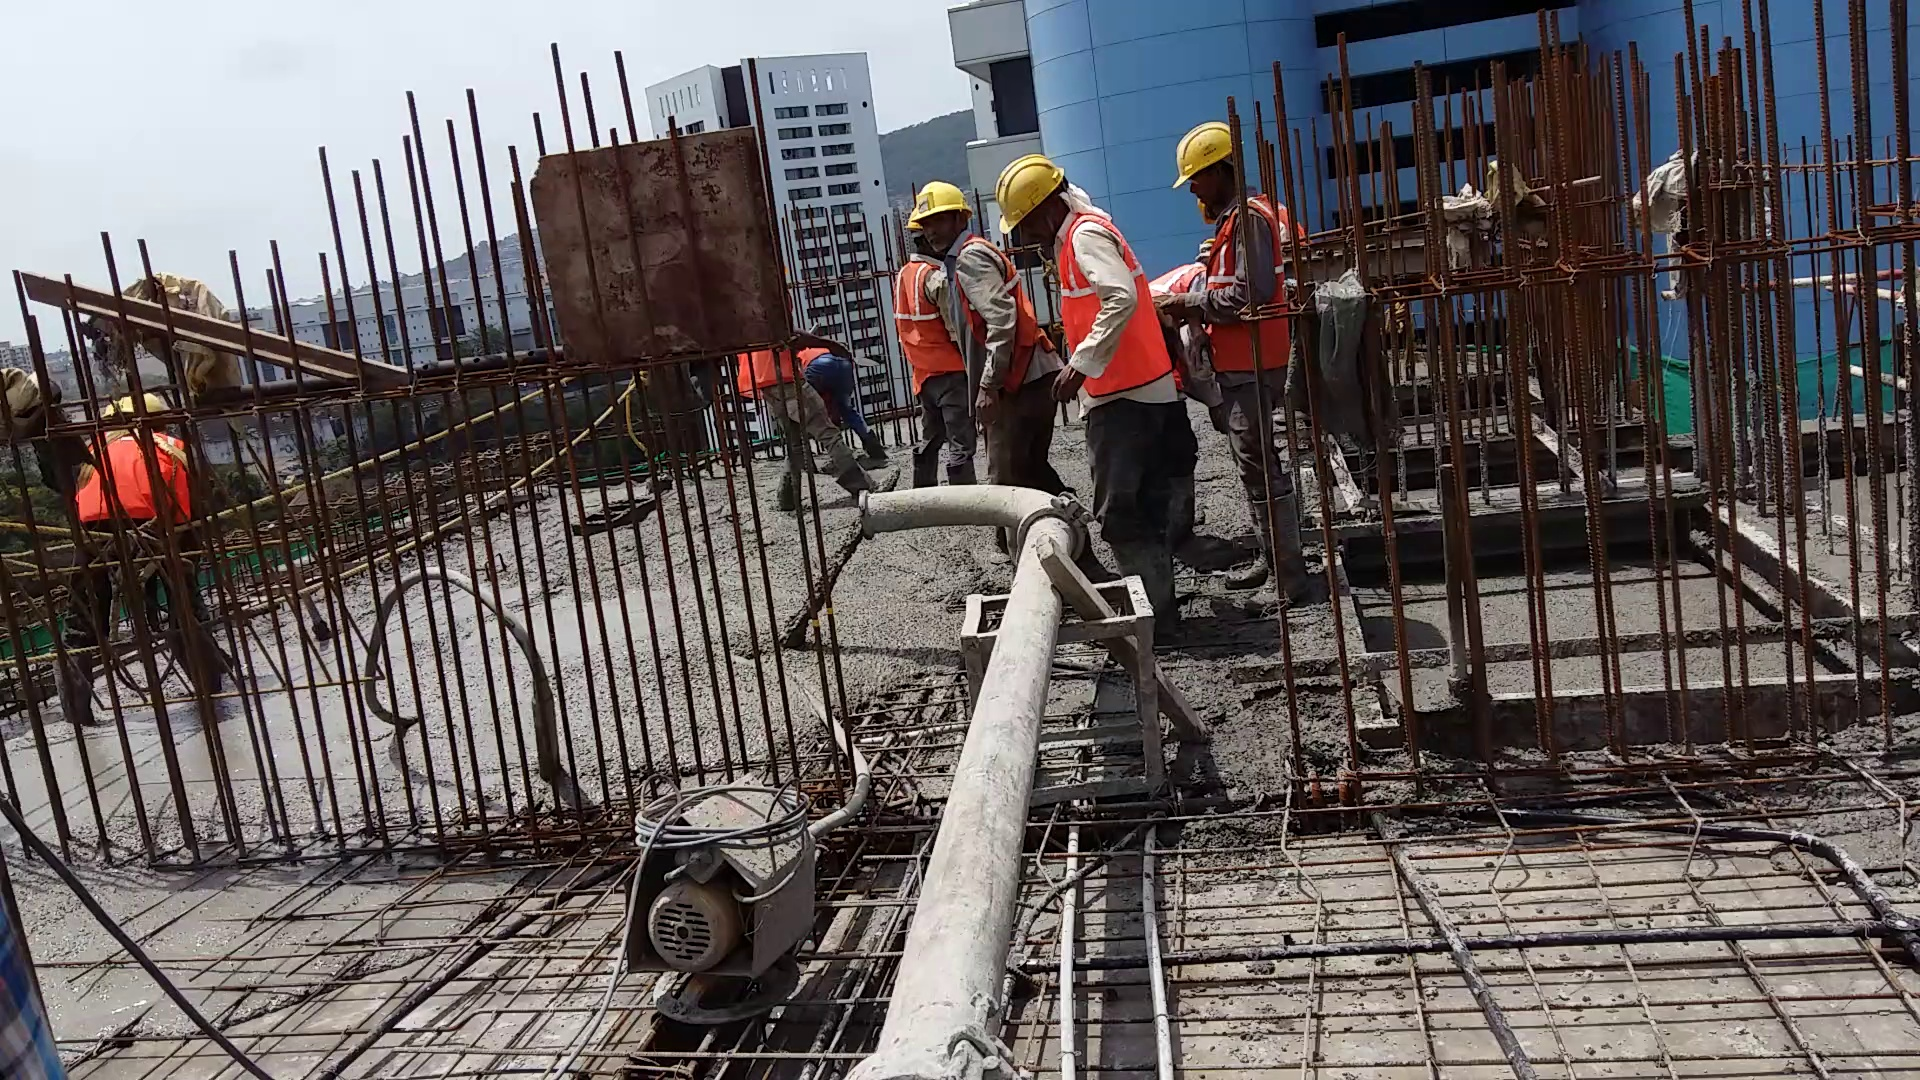SAFE: (1000, 152, 1167, 398), (905, 182, 1029, 396), (1184, 119, 1255, 377)
